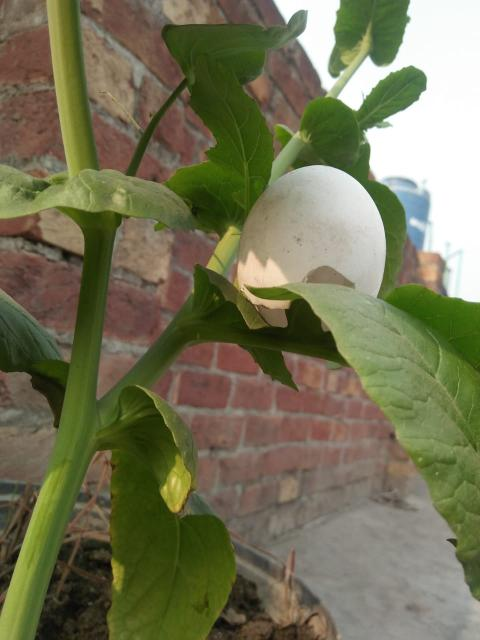Roto: (236, 164, 387, 331)
